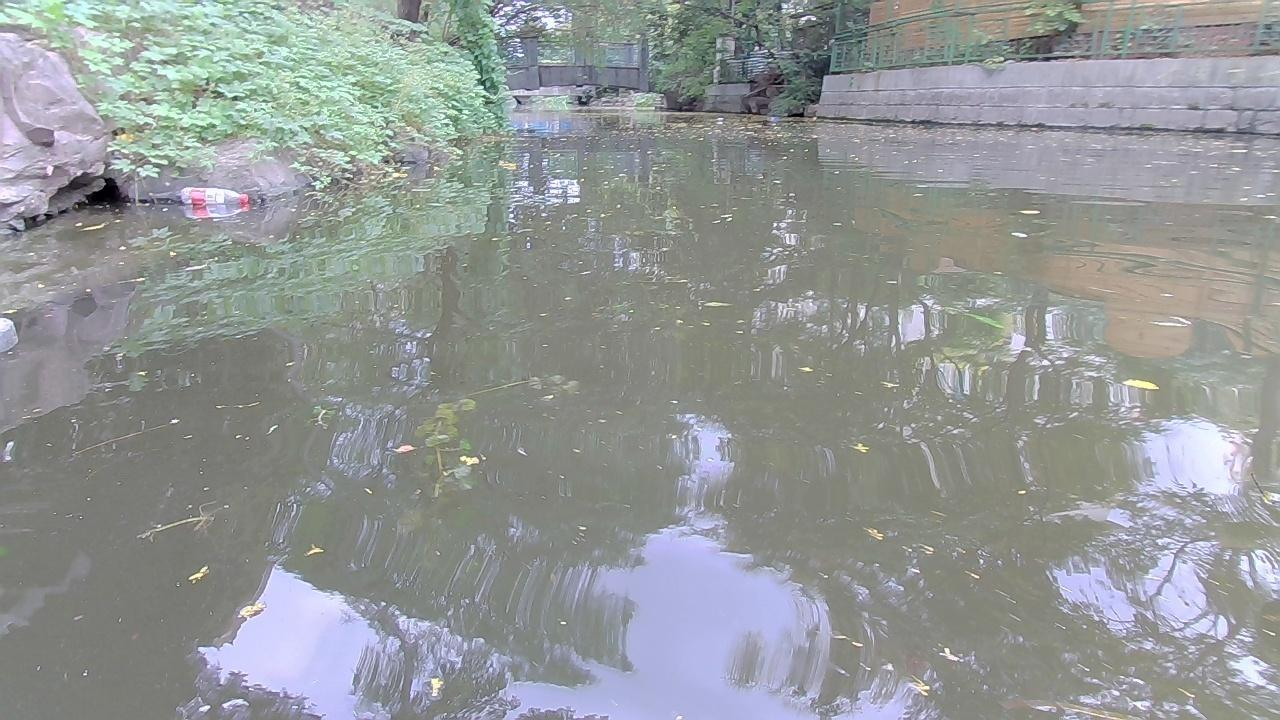bottle: (177, 185, 253, 209), (764, 113, 778, 125), (715, 115, 725, 126), (811, 113, 817, 121)
